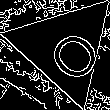O_NW: (30, 14, 99, 81)
